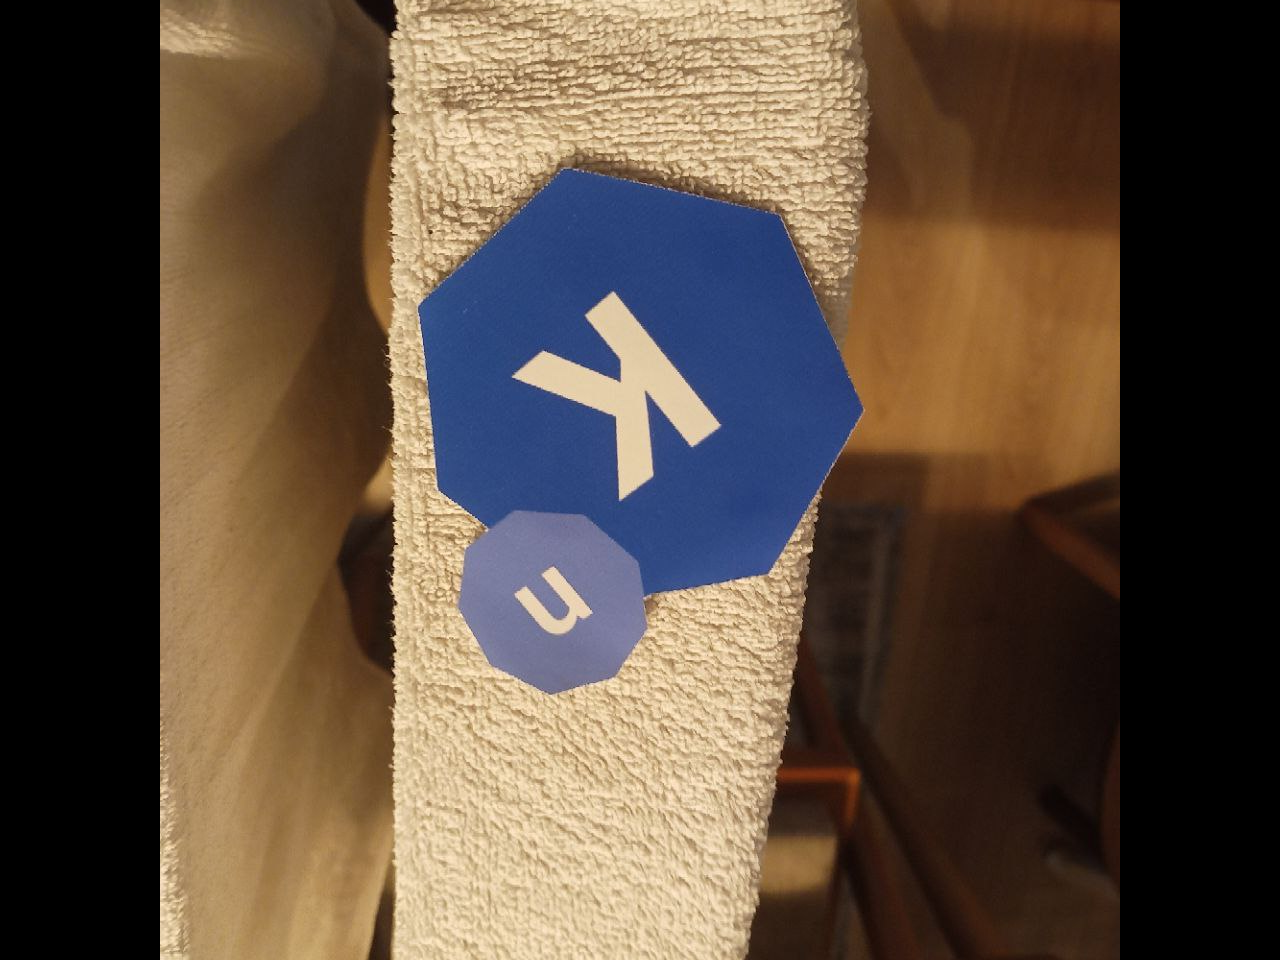knative: (417, 164, 866, 697)
